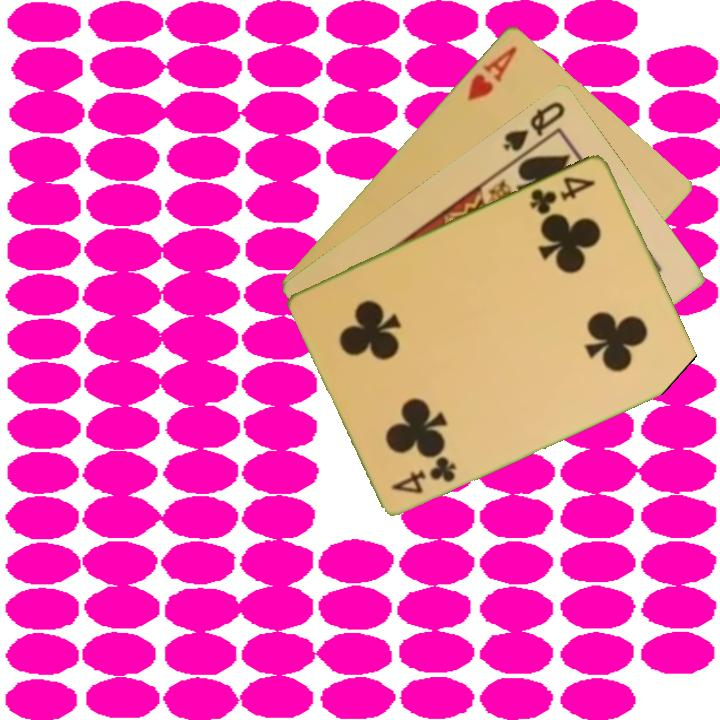4c: (526, 172, 599, 218), (387, 452, 460, 496)
Ah: (463, 41, 520, 104)
Qs: (499, 97, 569, 154)
